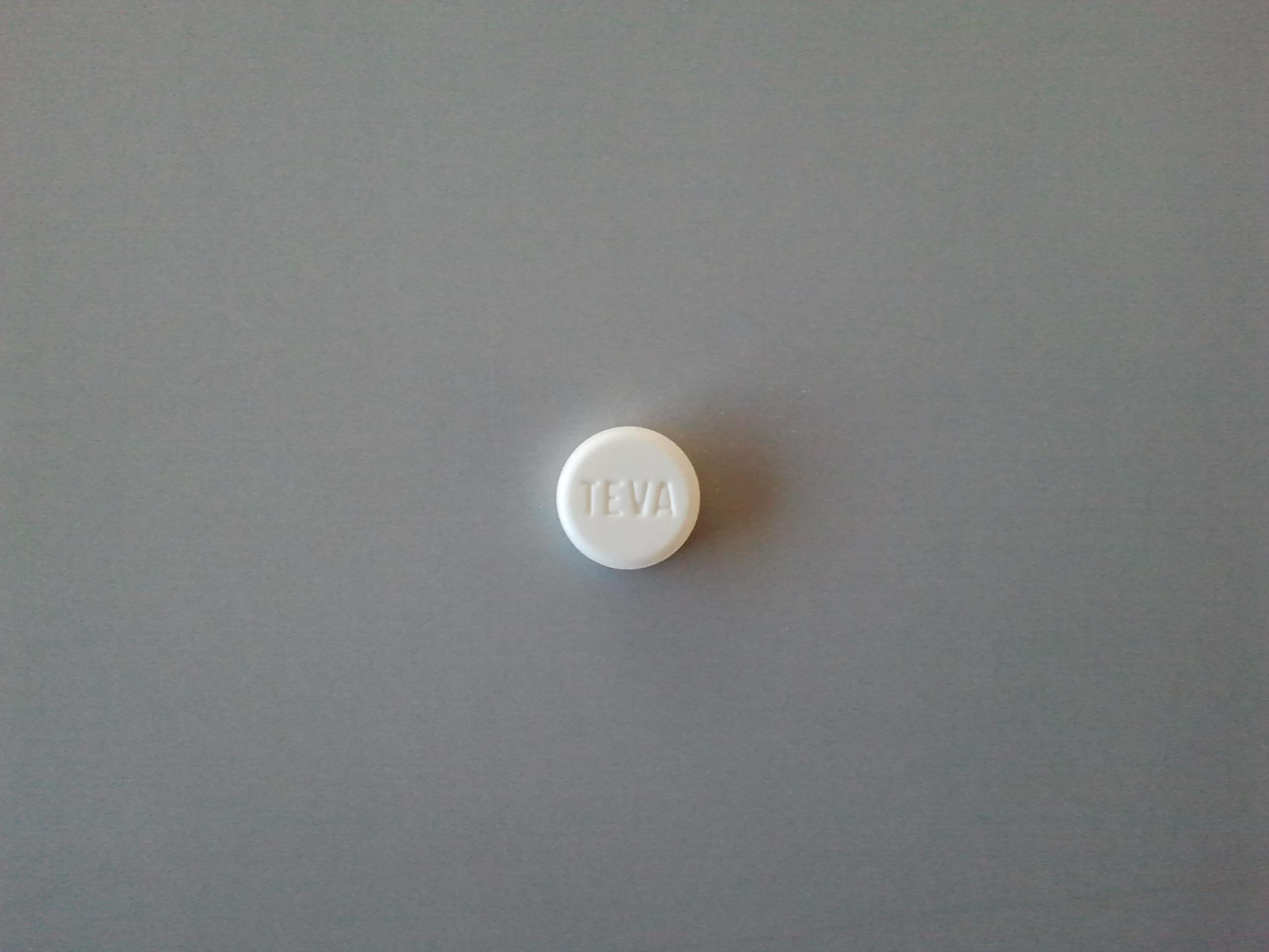Pill: (560, 372, 722, 532)
